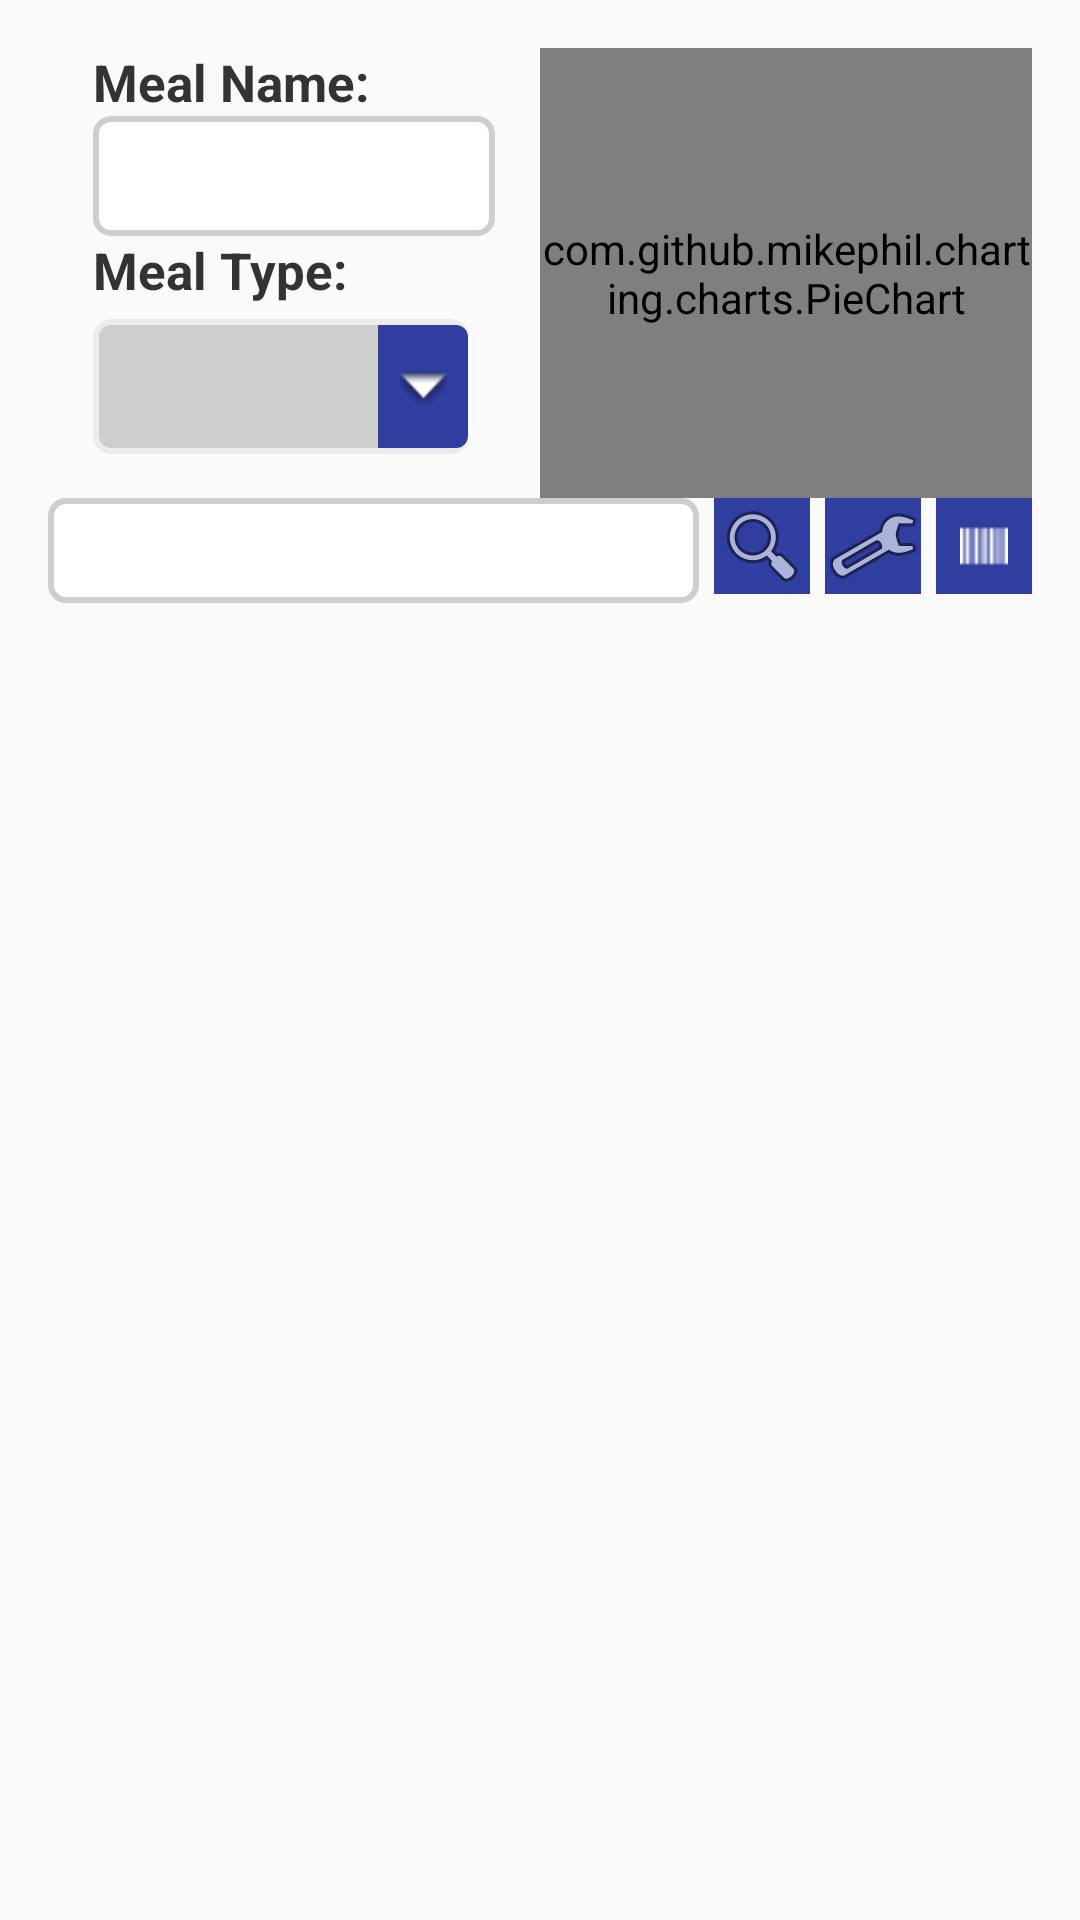

Named icons in this screenshot (1080×1920) and their bounding boxes, (x1, y1, x2, y2):
arrow down float: (378, 325, 468, 448)
bars: (936, 498, 1032, 594)
manage: (825, 498, 921, 594)
search: (714, 498, 810, 594)
